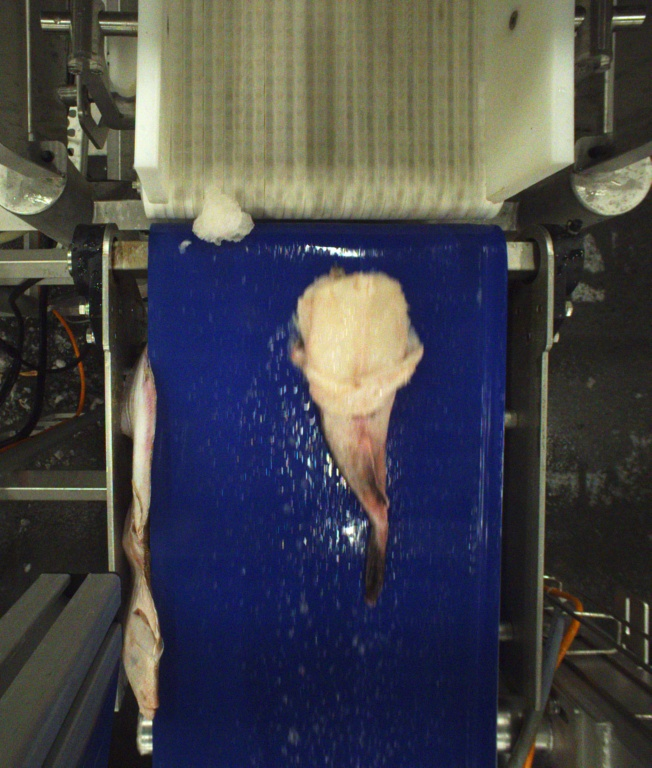ANF: (293, 265, 420, 616)
